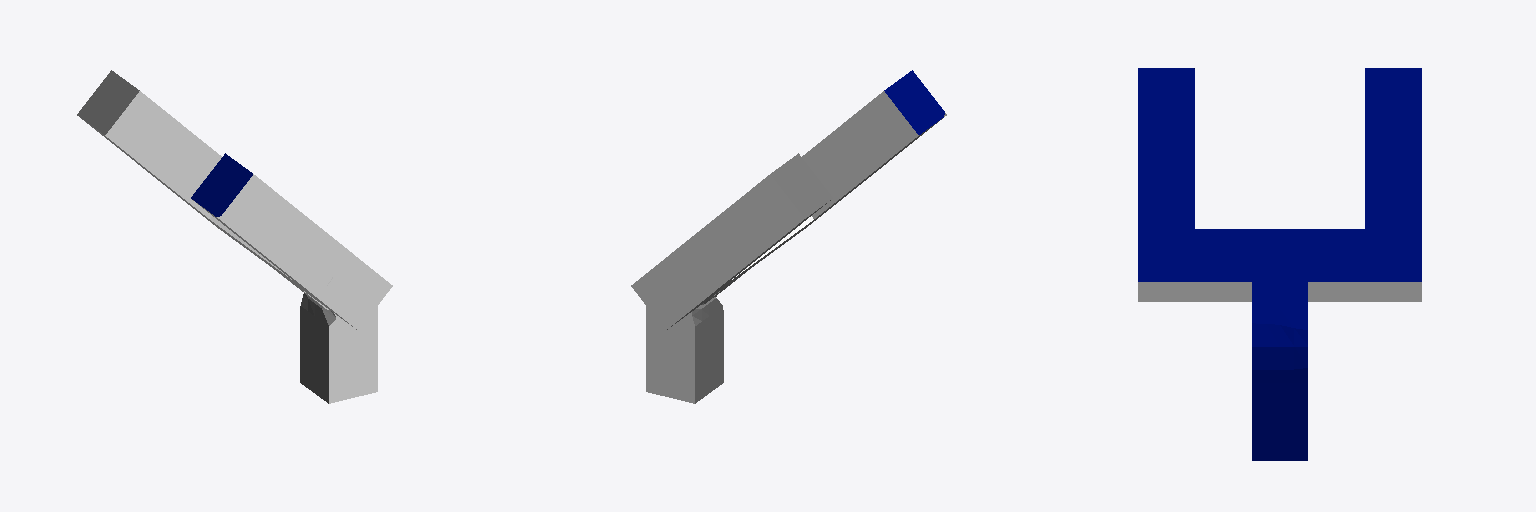
3 renders of one model, left to right at view 1: azimuth 30°, elevation 25°; view 2: azimuth 150°, elevation 25°; view 3: azimuth 270°, elevation 25°, orthographic.
Parts seen in each view (by area): view 1: Cube; view 2: Cube; view 3: Cube.
Boxes of the visible parts, box(x1,y1,x2,y2) form: Cube: box(77, 70, 392, 403); Cube: box(631, 70, 946, 403); Cube: box(1138, 68, 1421, 460).
Size of the model in its own units: 8.78 by 11.78 by 10.
1 materials, 1 textured.